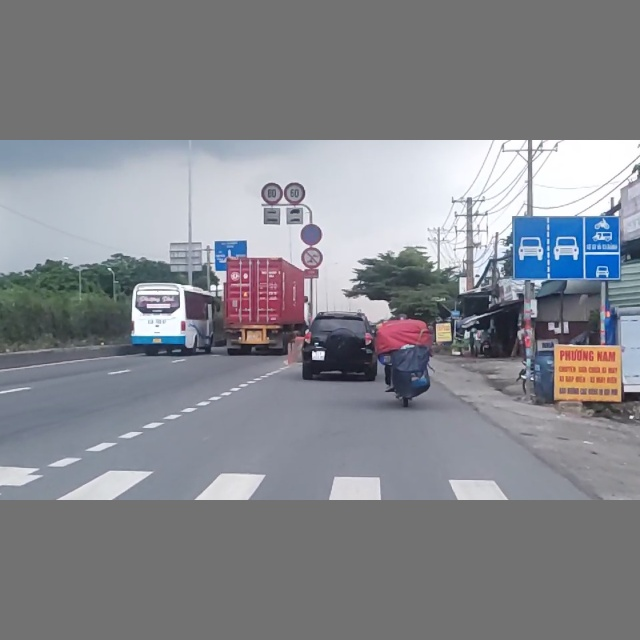P.111: (301, 247, 323, 269)
P.127*60: (284, 182, 305, 205)
P.127*80: (261, 183, 283, 205)
P.130: (300, 223, 323, 245)
R.415a: (512, 216, 621, 280)
